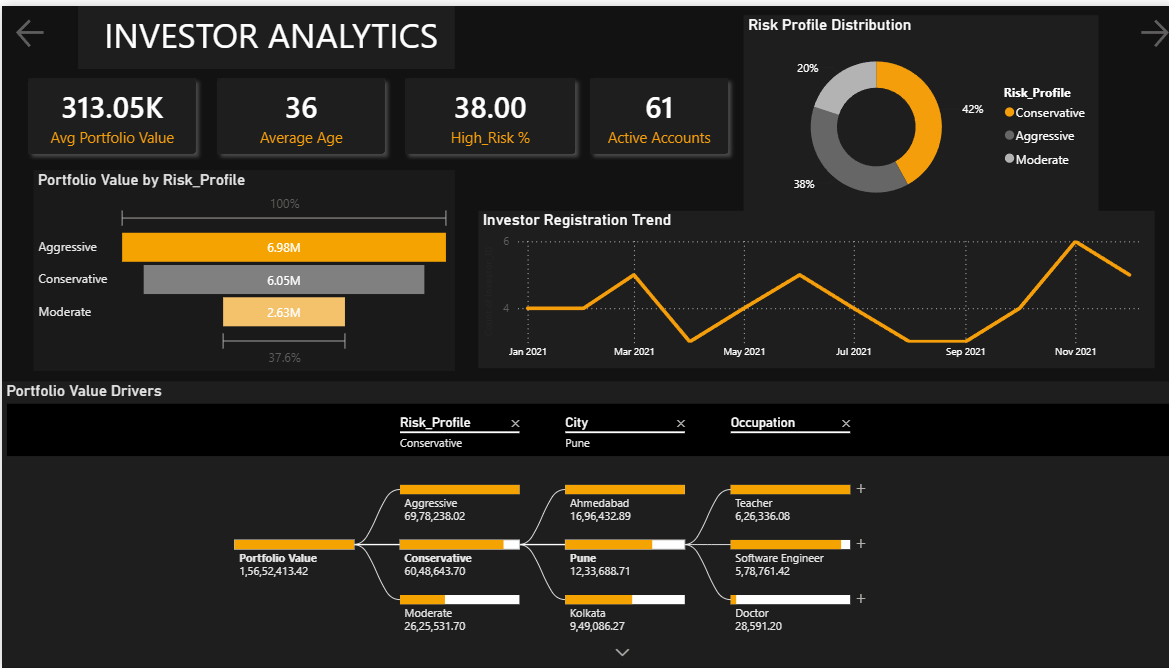

Layout of this report page (visuals, bound fields, positions):
{"tool":"powerbi","page":{"name":"Page 2","canvas":[1280,720],"ordinal":1},"visuals":[{"type":"textbox","box":[82.9,0,410,68.6],"z":0},{"type":"cardVisual","fields":{"Data":["Brokers.Avg Portfolio Value"]},"box":[0,50,240,140],"z":1000},{"type":"cardVisual","fields":{"Data":["Brokers.Average Age"]},"box":[205.6,50,240,140],"z":2000},{"type":"cardVisual","fields":{"Data":["Brokers.High_Risk %"]},"box":[410,50,243.3,140],"z":3000},{"type":"cardVisual","fields":{"Data":["Brokers.Active Accounts"]},"box":[611.1,50,208.9,140],"z":4000},{"type":"donutChart","title":"Risk Profile Distribution","fields":{"Category":["Investors.Risk_Profile"],"Y":["CountNonNull(Investors.Investor_ID)"]},"box":[807.5,10,386.2,223.8],"z":5000},{"type":"lineChart","title":"Investor Registration Trend","fields":{"Category":["Investors.Registration_Date.Variation.Date Hierarchy.Year","Investors.Registration_Date.Variation.Date Hierarchy.Month"],"Y":["CountNonNull(Investors.Investor_ID)"]},"box":[518.8,222.5,736.2,171.2],"z":6000},{"type":"funnel","fields":{"Category":["Investors.Risk_Profile"],"Y":["Brokers.Portfolio Value"]},"box":[34.3,178.6,458.6,218.6],"z":7000},{"type":"decompositionTreeVisual","title":"Portfolio Value Drivers","fields":{"Analyze":["Brokers.Portfolio Value"],"ExplainBy":["Investors.Risk_Profile","Investors.City","Investors.Occupation","Investors.Income_Bracket","Investors.Country","Investors.Gender"]},"box":[0,408.6,1280,311.4],"z":8000},{"type":"actionButton","box":[11.2,10,43.8,40],"z":9000},{"type":"actionButton","box":[1233.8,10,41.2,40],"z":10000}]}

Visuals, with their boxes in screenshot pixels (x1, y1, x2, y2), scaled from the page's 1280x720 canvas onto the 1169x668 screenshot:
textbox: region(76, 0, 450, 64)
cardVisual - Brokers.Avg Portfolio Value: region(0, 46, 219, 176)
cardVisual - Brokers.Average Age: region(188, 46, 407, 176)
cardVisual - Brokers.High_Risk %: region(374, 46, 597, 176)
cardVisual - Brokers.Active Accounts: region(558, 46, 749, 176)
"Risk Profile Distribution" donutChart: region(737, 9, 1090, 217)
"Investor Registration Trend" lineChart: region(474, 206, 1146, 365)
funnel - Investors.Risk_Profile x Brokers.Portfolio Value: region(31, 166, 450, 369)
"Portfolio Value Drivers" decompositionTreeVisual: region(0, 379, 1168, 667)
actionButton: region(10, 9, 50, 46)
actionButton: region(1127, 9, 1164, 46)
